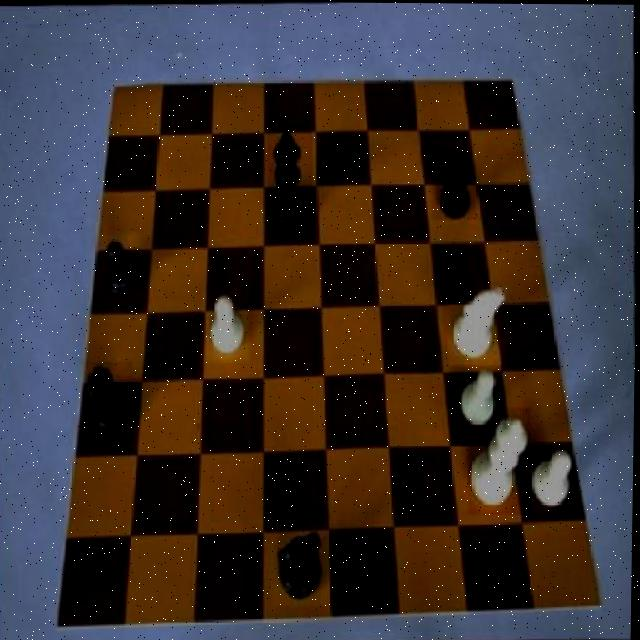black-bishop: (266, 122, 314, 236)
black-king: (274, 522, 332, 607)
black-knight: (100, 234, 142, 305), (431, 160, 479, 219)
black-queen: (84, 361, 136, 441)
white-bishop: (468, 408, 534, 515)
white-king: (448, 284, 509, 363)
white-knight: (525, 440, 576, 513), (451, 366, 505, 433), (203, 290, 251, 361)
